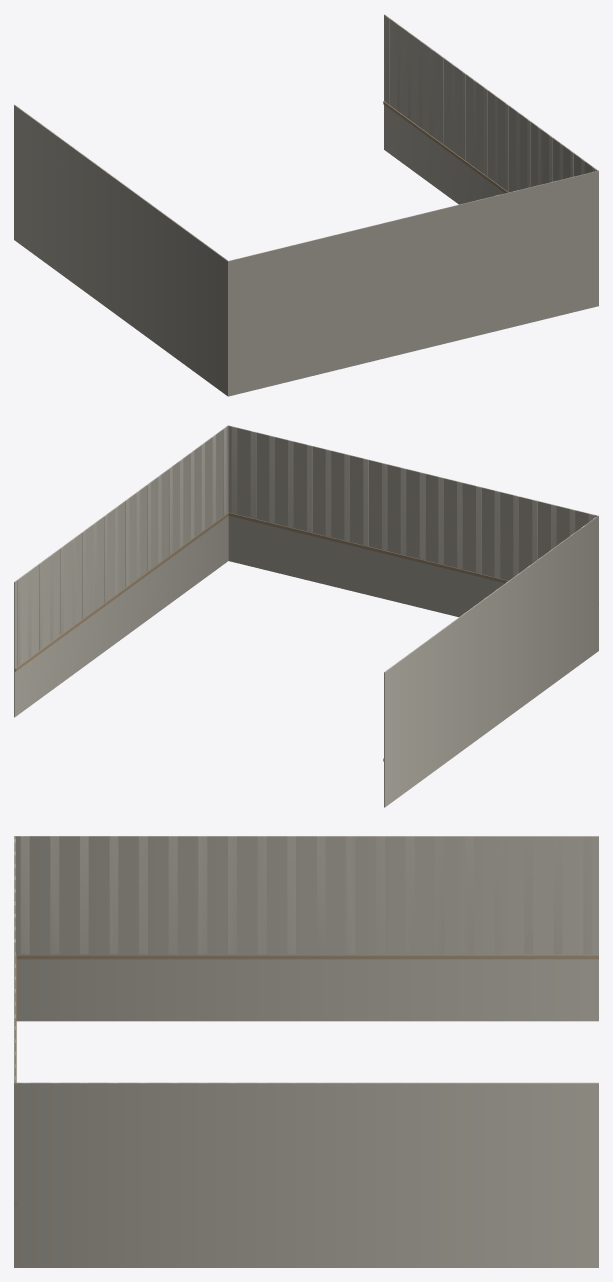
Rendered from home_wallpaper__cream.glb.
3 views of the same model, one above another, from view 1: azimuth 30°, elevation 25°; view 2: azimuth 150°, elevation 25°; view 3: azimuth 270°, elevation 25° (orthographic). The views are drawn at different scales.
Size of the model in its own units: 7.9 by 2.75 by 7.9.
